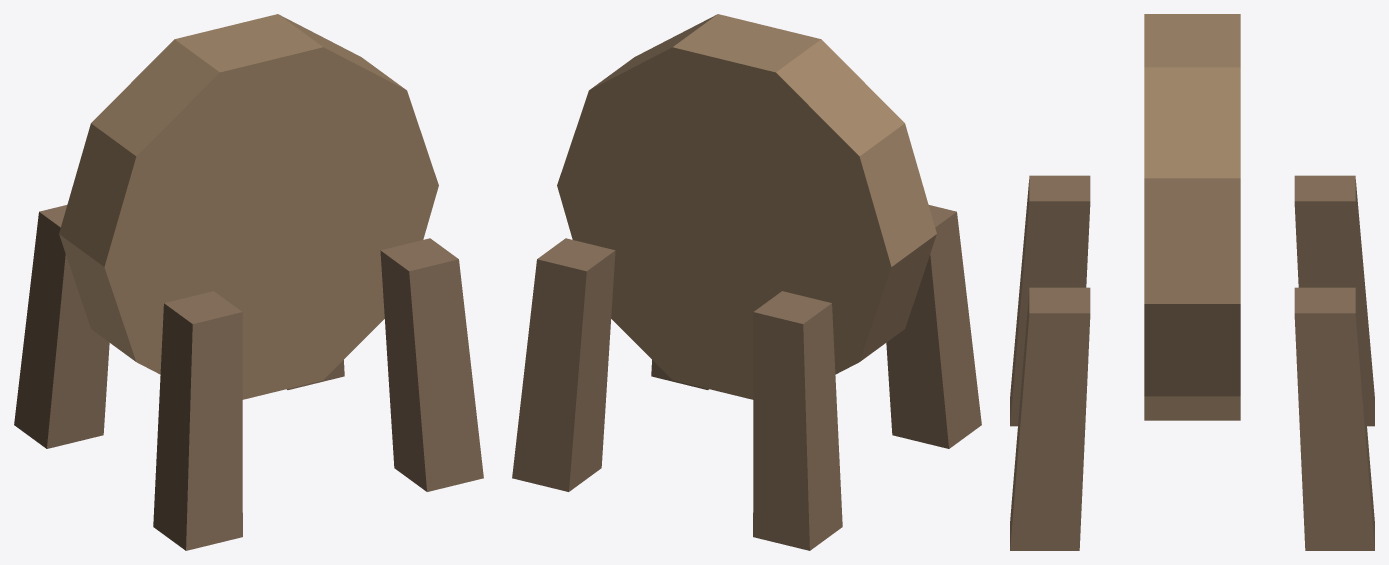
File: stool_round.glb
The picture shows the model from 3 angles, left to right: view 1: azimuth 30°, elevation 25°; view 2: azimuth 150°, elevation 25°; view 3: azimuth 270°, elevation 25°; orthographic projection. The views are drawn at different scales.
Visible parts, largest first — view 1: part_0, part_2, part_1, part_4; view 2: part_0, part_4, part_3, part_2; view 3: part_0, part_1, part_3, part_2, part_4.
Boxes of the visible parts, x1=… form: part_0: x1=59, y1=14, x2=438, y2=399; part_2: x1=153, y1=291, x2=242, y2=550; part_1: x1=380, y1=238, x2=483, y2=491; part_4: x1=14, y1=205, x2=109, y2=448; part_0: x1=557, y1=14, x2=936, y2=399; part_4: x1=753, y1=291, x2=842, y2=550; part_3: x1=512, y1=238, x2=615, y2=491; part_2: x1=886, y1=205, x2=981, y2=448; part_0: x1=1144, y1=14, x2=1240, y2=420; part_1: x1=1010, y1=287, x2=1090, y2=550; part_3: x1=1294, y1=287, x2=1374, y2=550; part_2: x1=1010, y1=175, x2=1090, y2=426; part_4: x1=1294, y1=175, x2=1374, y2=426.
Size of the model in its own units: 0.68 by 0.7934 by 0.6055.
